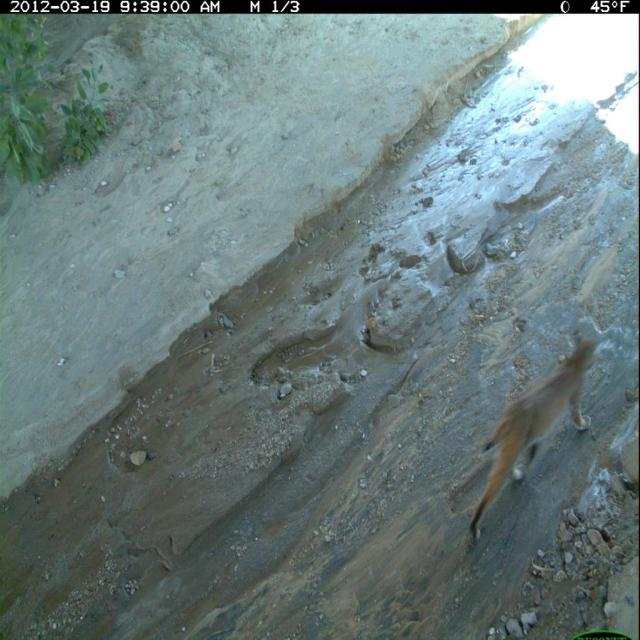bobcat: (463, 329, 611, 549)
